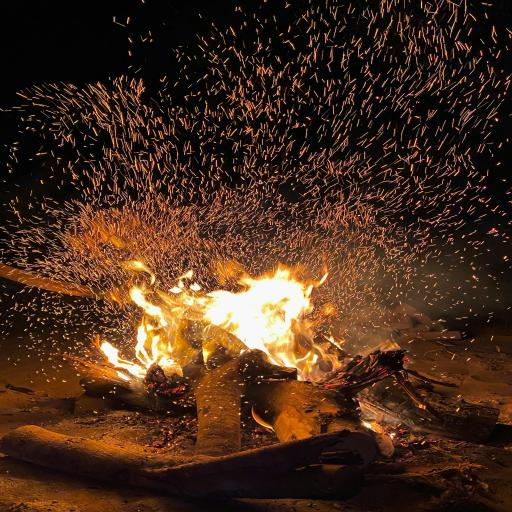campfire: (83, 152, 512, 512)
